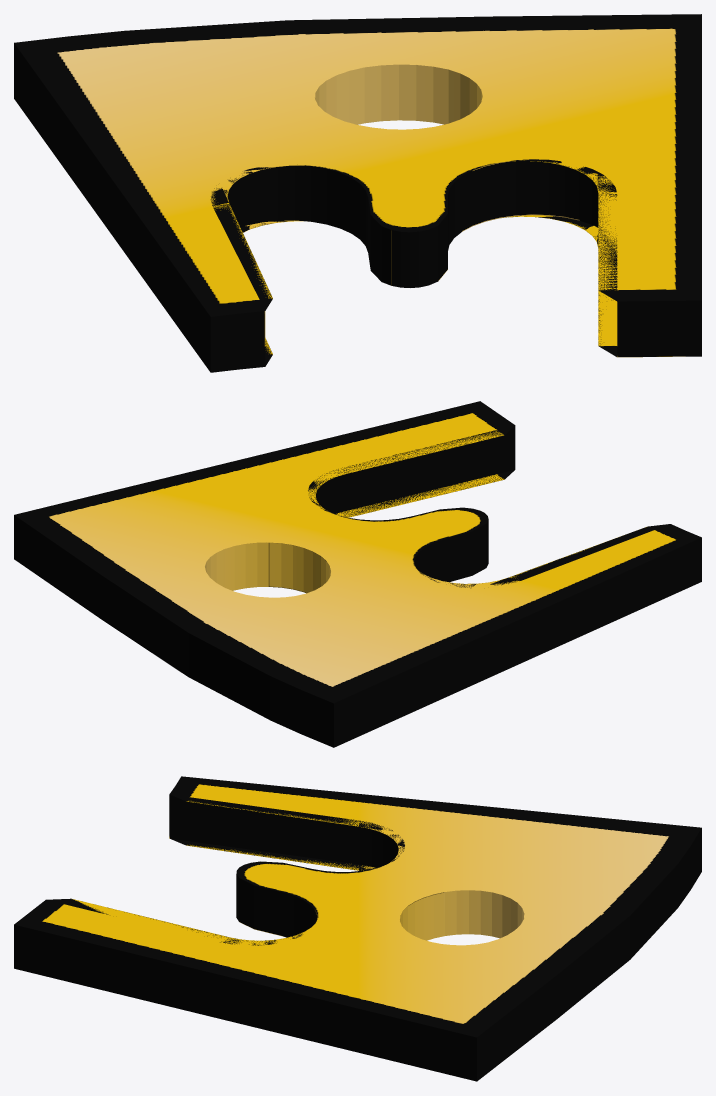
File: BAM_M2.fbx
3 views of the same model, one above another, from view 1: azimuth 30°, elevation 25°; view 2: azimuth 150°, elevation 25°; view 3: azimuth 270°, elevation 25° (orthographic). The views are drawn at different scales.
Visible parts, largest first — view 1: M2; view 2: M2; view 3: M2.
Part boxes in pixels (x1,y1,x2,y2): M2: (14, 14, 701, 372); M2: (14, 401, 701, 747); M2: (14, 776, 701, 1081).
Size of the model in its own units: 401 by 31.5 by 446.
1 material, 1 textured.
